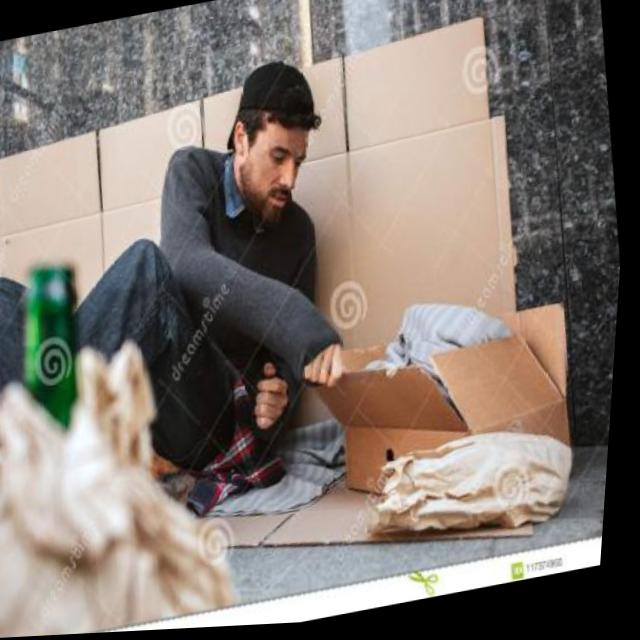box: (304, 291, 623, 546)
